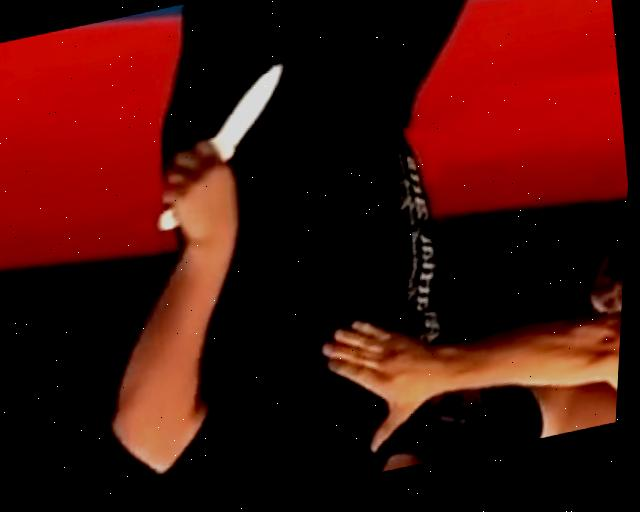pocket-knife: (134, 56, 306, 248)
